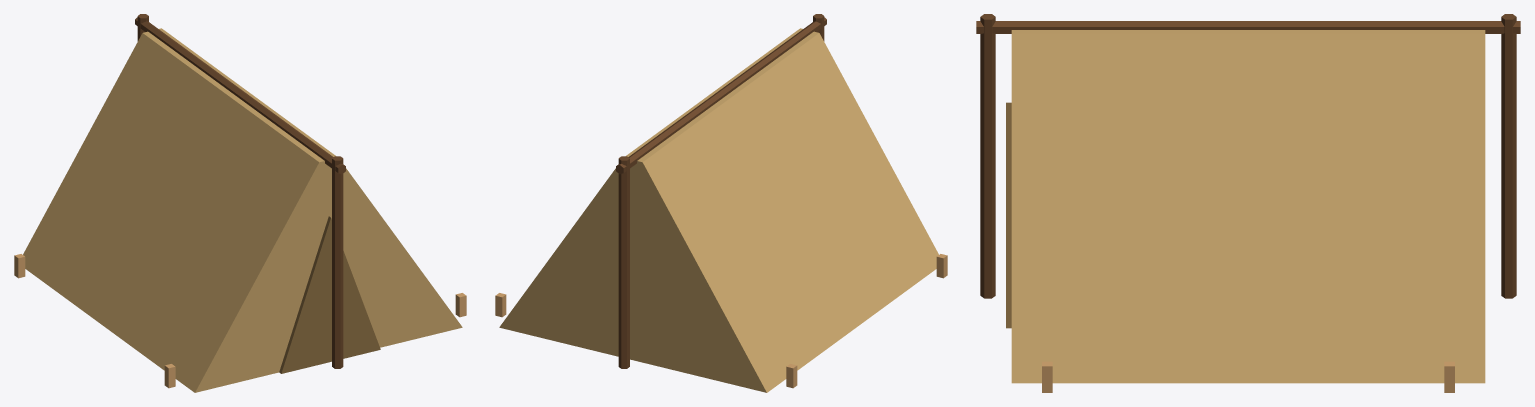
The model's file is Tent.fbx.
3 renders of one model, left to right at view 1: azimuth 30°, elevation 25°; view 2: azimuth 150°, elevation 25°; view 3: azimuth 270°, elevation 25°, orthographic. The views are drawn at different scales.
Visible parts, largest first — view 1: Tent; view 2: Tent; view 3: Tent.
Boxes of the visible parts, x1,y1,x2,y2 form: Tent: (14,14,466,392); Tent: (495,14,947,392); Tent: (976,14,1520,392).
Size of the model in its own units: 7.78 by 5.2 by 9.2.
Materials: 1 (1 with a texture image).
